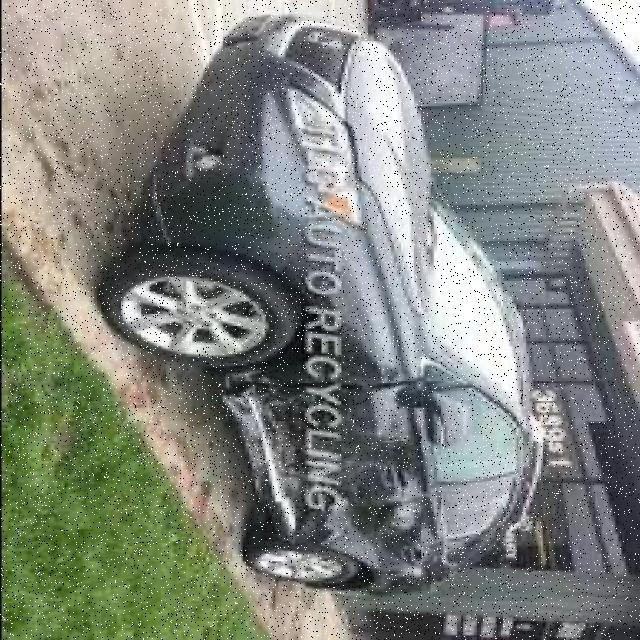damage: (216, 366, 449, 574)
